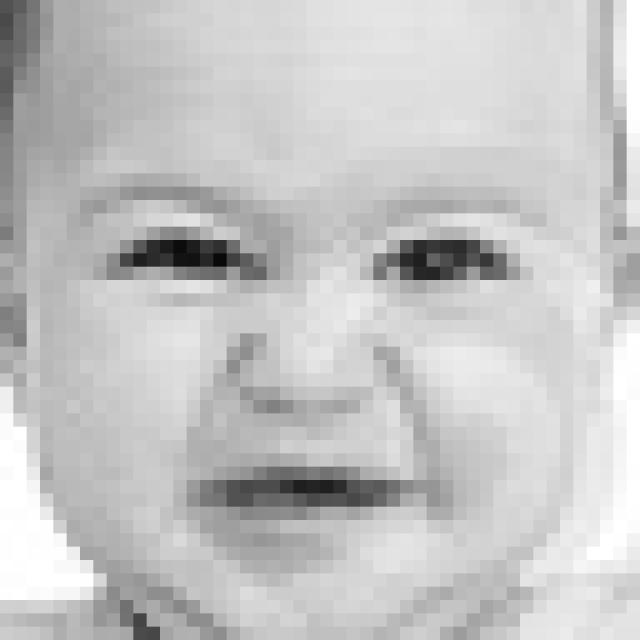disgust: (66, 154, 583, 566)
